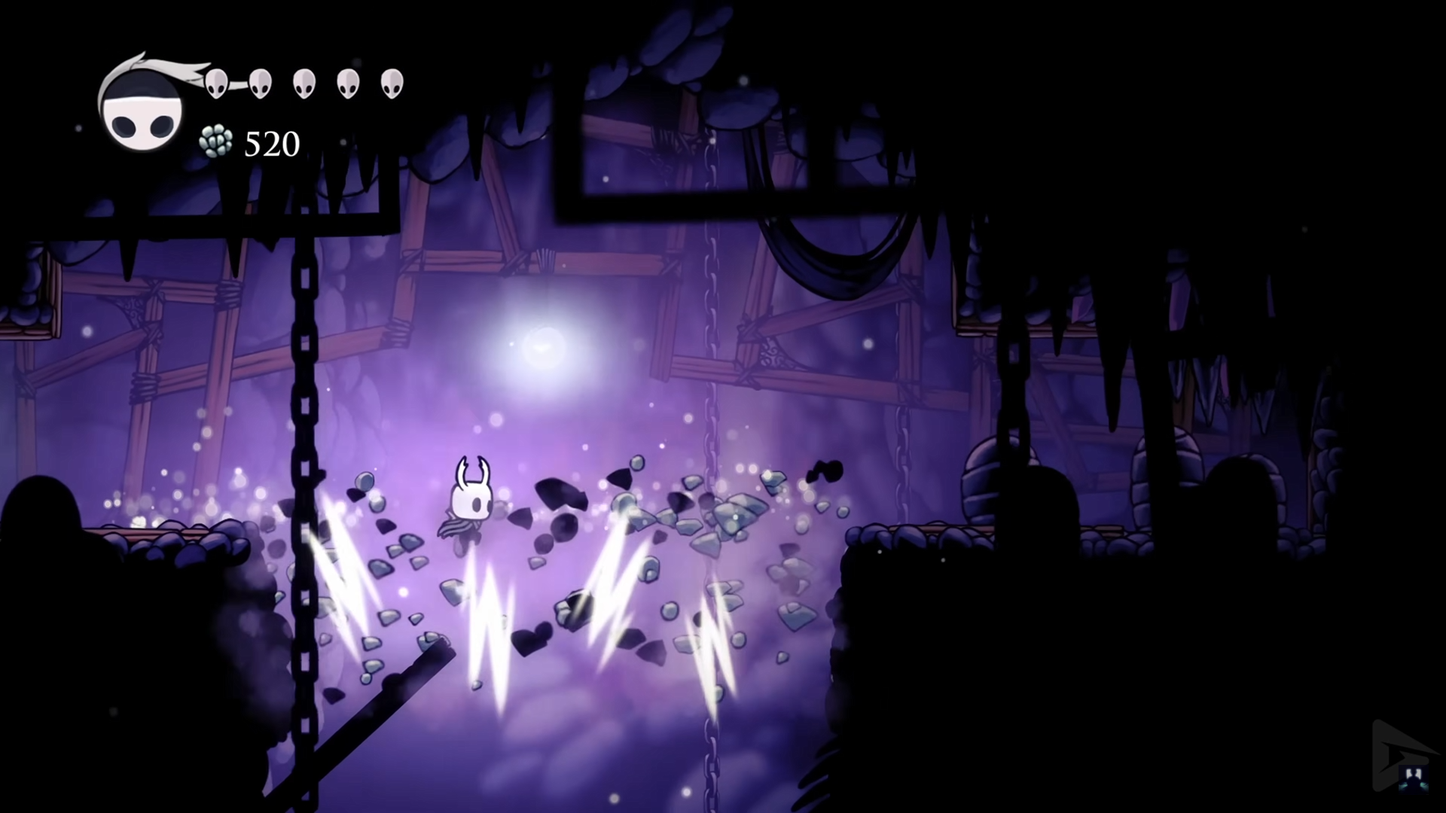HK: (438, 452, 502, 559)
